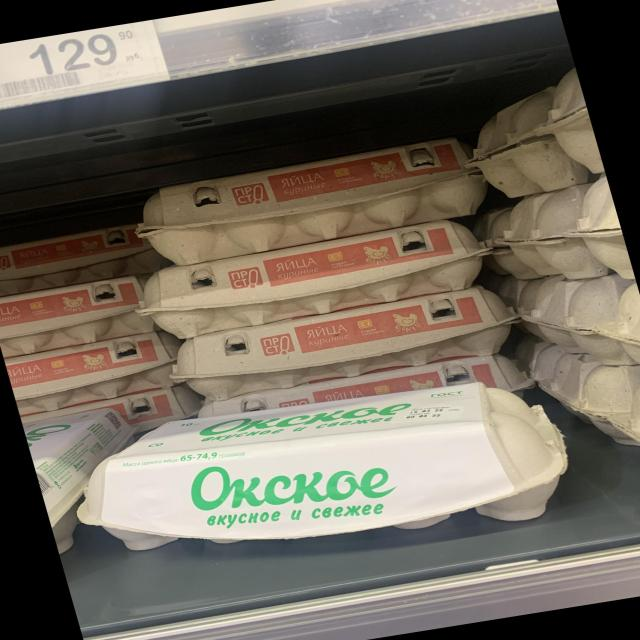organic waste: (55, 359, 597, 592), (122, 131, 494, 268), (126, 215, 496, 344), (154, 285, 522, 408), (3, 328, 191, 411), (0, 220, 163, 300), (0, 276, 150, 356)
